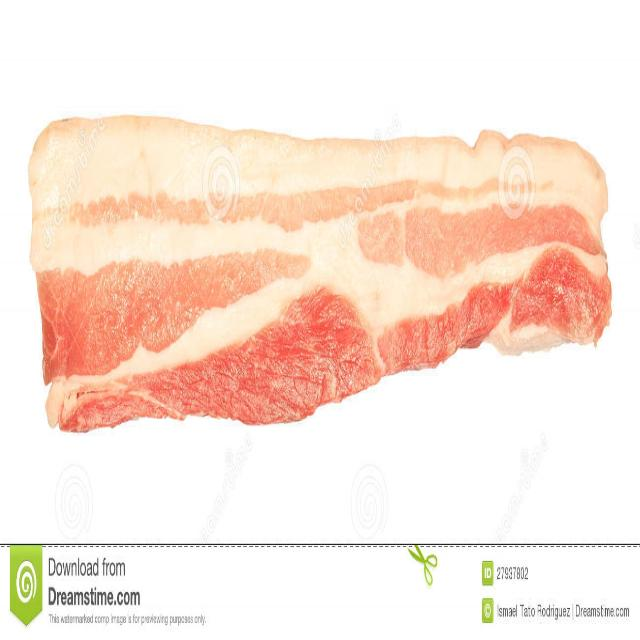bacon: (29, 109, 609, 434)
